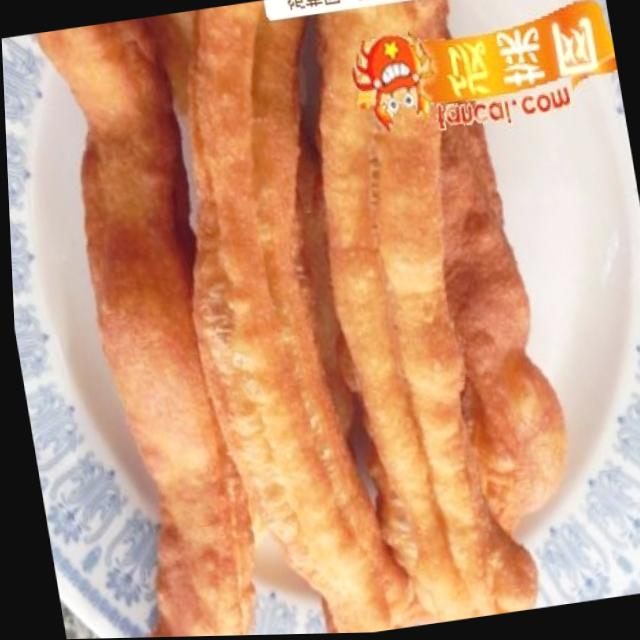炸货点心: (13, 0, 587, 640)
